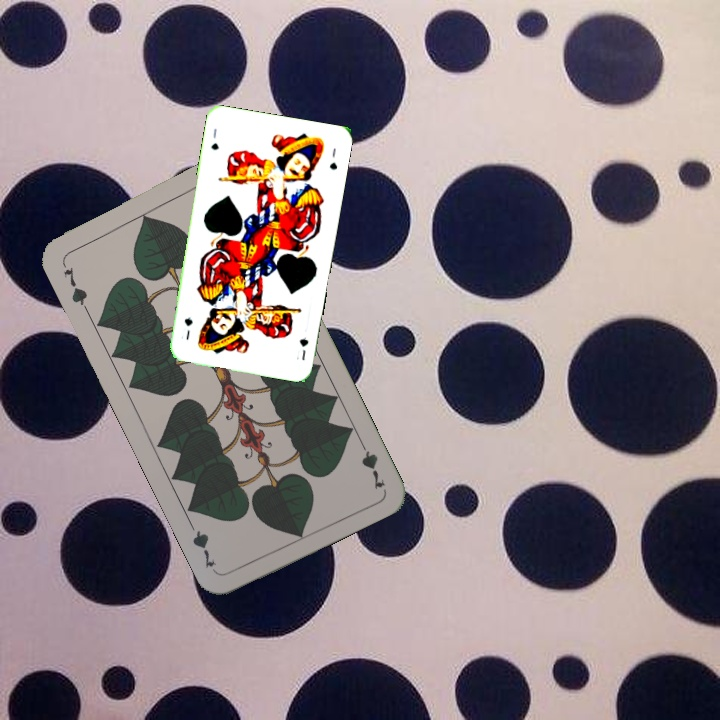G7: (354, 435, 388, 492), (59, 263, 91, 313)
GU: (295, 333, 311, 363), (207, 124, 221, 153)
